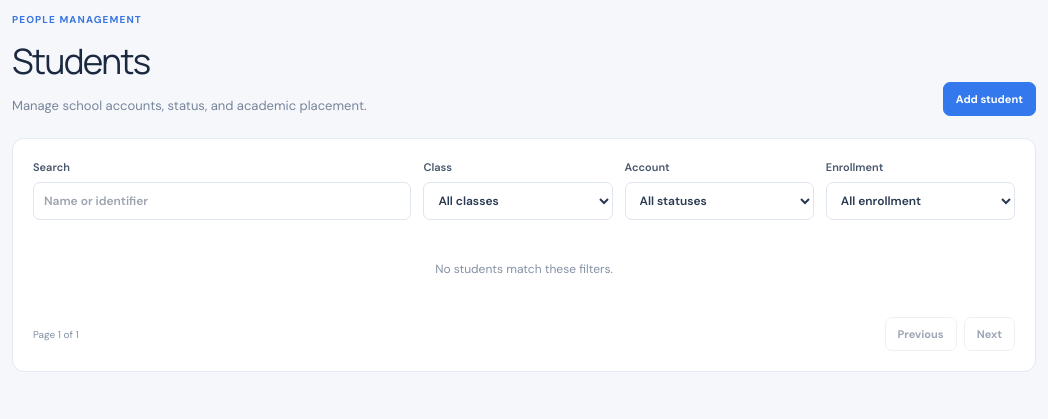
Test case: admin management pages › searches the student list using the server-side filter
The image size is (1048, 419).
In the field with placeholder "Name or identifier": (222, 201) left=33, top=182, right=411, bottom=220, type "sara"
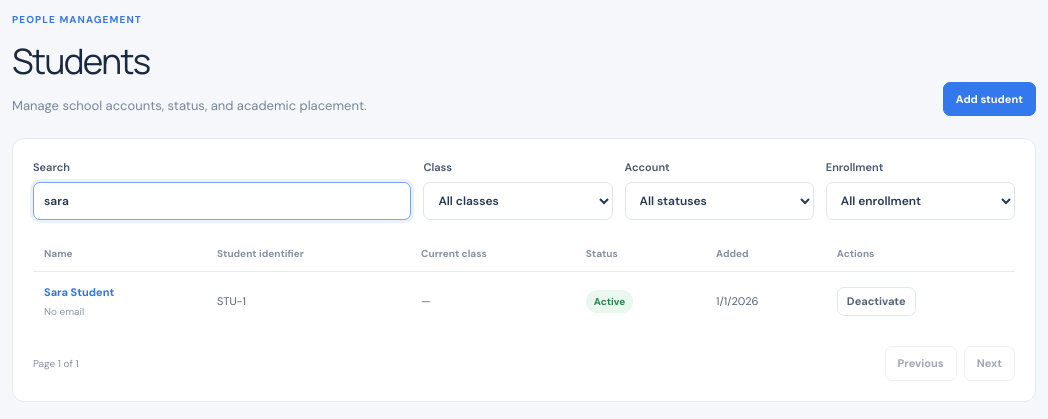
Now the link "Sara Student" is shown, box left=44, top=285, right=114, bottom=299
